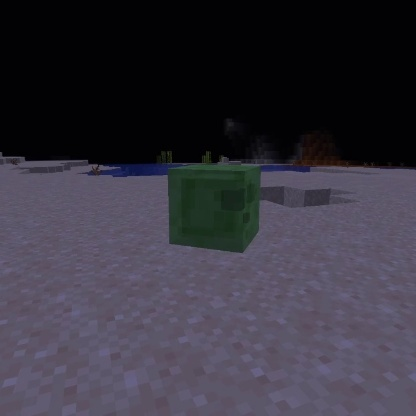slime: (164, 162, 266, 256)
